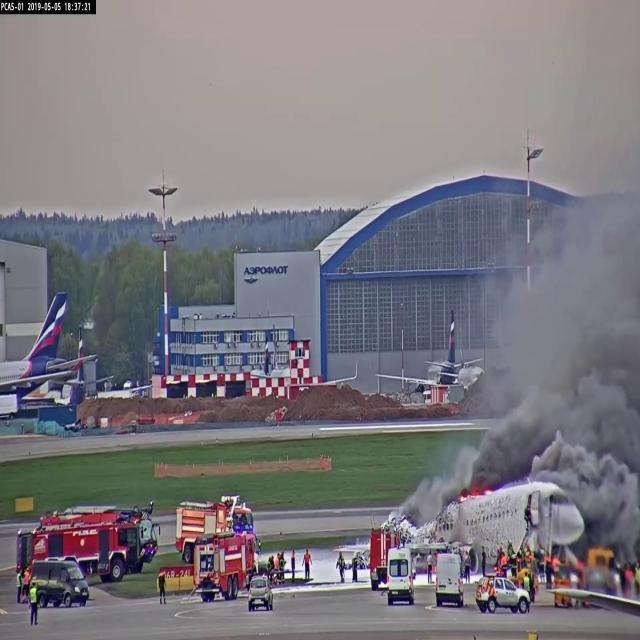Smoke: (547, 370, 640, 460), (477, 394, 551, 490)
